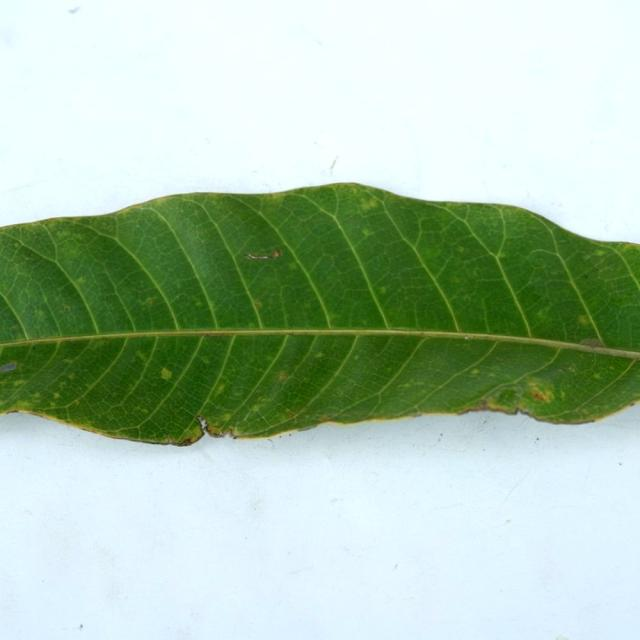Mango: (0, 184, 639, 445)
Powdery_Mildew: (519, 373, 561, 407), (348, 190, 388, 217), (199, 420, 233, 441), (14, 244, 46, 266), (155, 362, 178, 386), (576, 307, 592, 327), (525, 291, 546, 305), (580, 338, 606, 349), (468, 365, 483, 378), (0, 362, 17, 373), (263, 190, 283, 198), (181, 435, 196, 445), (215, 383, 227, 394), (361, 228, 374, 238), (476, 400, 489, 410), (566, 363, 578, 373), (275, 371, 288, 380), (135, 350, 146, 360), (536, 309, 547, 319), (316, 414, 331, 421), (594, 249, 607, 257), (165, 435, 175, 445), (145, 297, 156, 306), (35, 308, 46, 317), (201, 355, 211, 364), (221, 413, 232, 421), (202, 333, 219, 338), (378, 285, 387, 294), (253, 299, 262, 308), (272, 249, 281, 258), (288, 263, 298, 271), (61, 304, 71, 312), (250, 407, 261, 414), (76, 276, 85, 284), (314, 352, 324, 359), (194, 300, 204, 307), (456, 246, 466, 253), (497, 252, 507, 259), (286, 411, 296, 418), (10, 324, 20, 331), (352, 355, 360, 363), (593, 372, 602, 379), (64, 358, 74, 364), (53, 392, 61, 399), (67, 372, 75, 379), (401, 383, 412, 388), (32, 392, 41, 398), (413, 412, 422, 417), (142, 408, 149, 414), (13, 242, 20, 248), (75, 399, 81, 405), (629, 402, 636, 407), (583, 274, 589, 279), (464, 336, 470, 340)
